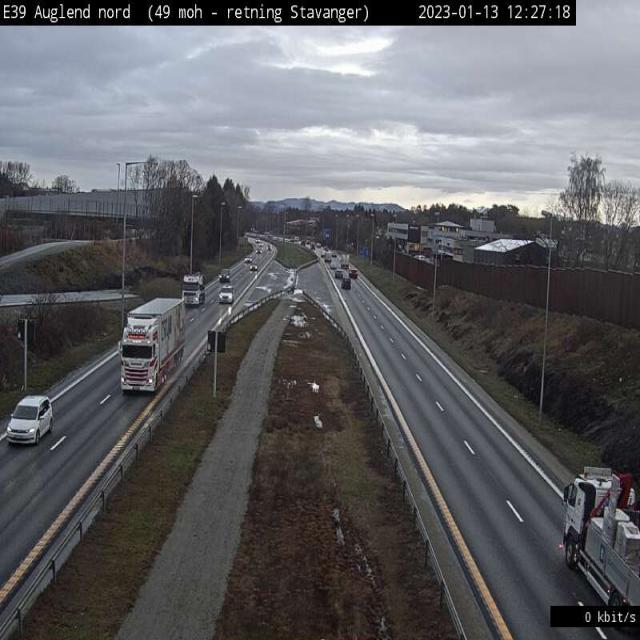car: (120, 297, 187, 395), (5, 395, 54, 447), (182, 273, 204, 307), (218, 290, 233, 305)
